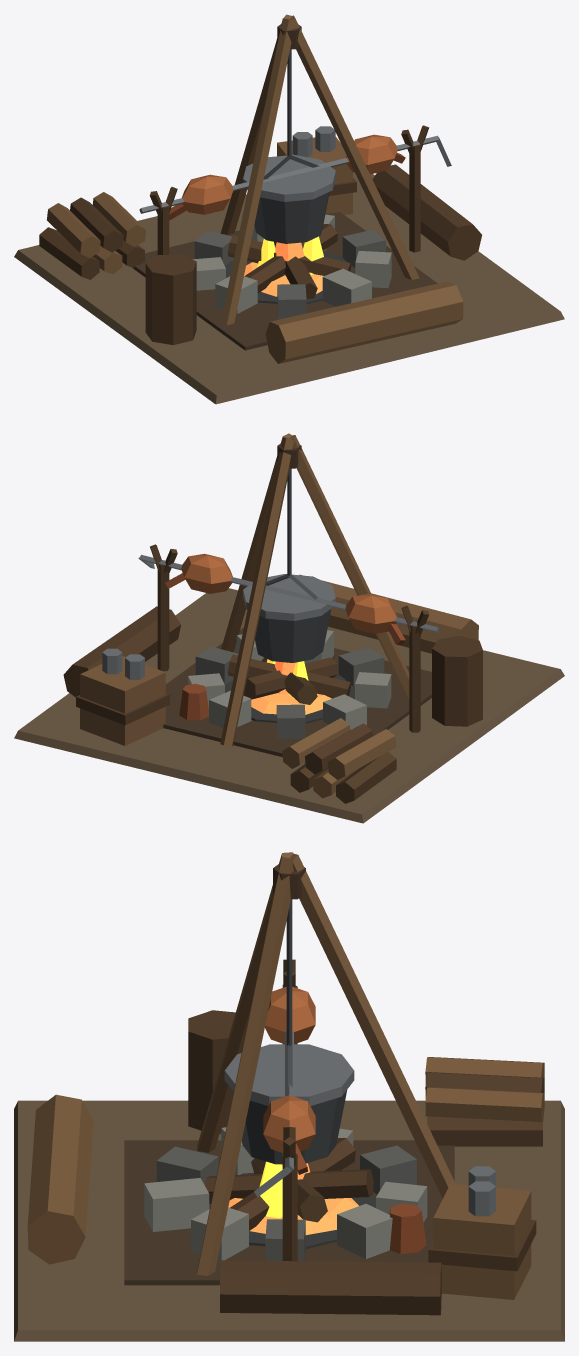
File: campfire_cooking.glb
The picture shows the model from 3 angles, top to bottom: view 1: azimuth 30°, elevation 25°; view 2: azimuth 150°, elevation 25°; view 3: azimuth 270°, elevation 25°; orthographic projection. The views are drawn at different scales.
Parts seen in each view (by area): view 1: campfire_cooking_mesh; view 2: campfire_cooking_mesh; view 3: campfire_cooking_mesh.
Part boxes in pixels (x1,y1,x2,y2): campfire_cooking_mesh: [14, 14, 564, 404]; campfire_cooking_mesh: [14, 433, 564, 823]; campfire_cooking_mesh: [14, 852, 564, 1341].
Size of the model in its own units: 2 by 1.48 by 2.
